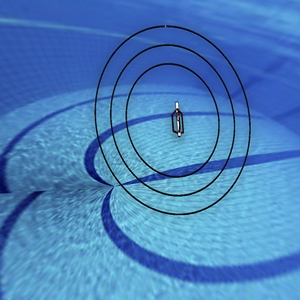circle: (83, 7, 260, 223)
submarine: (156, 91, 192, 140)
